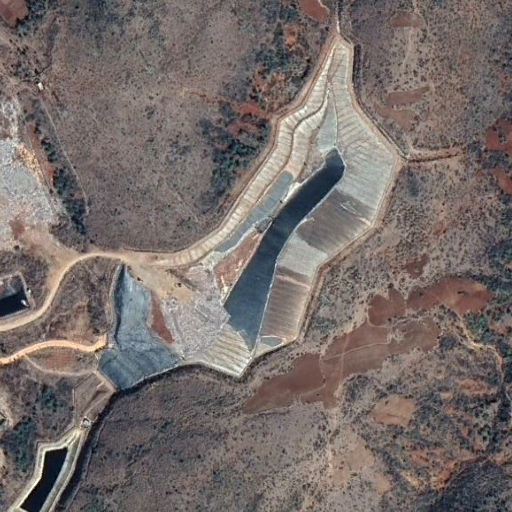lf: (96, 35, 402, 392)
